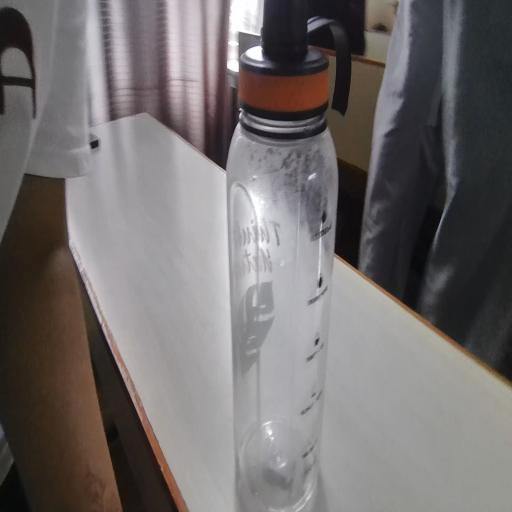Bottle: (234, 10, 373, 475)
